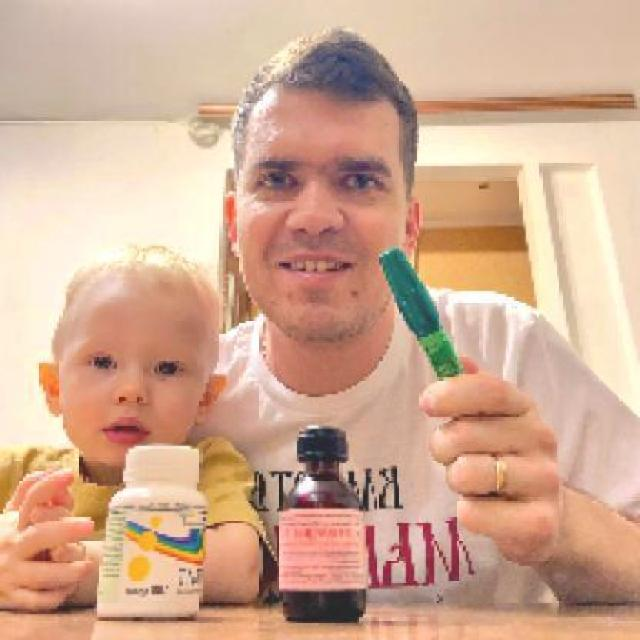child: (3, 237, 280, 614)
